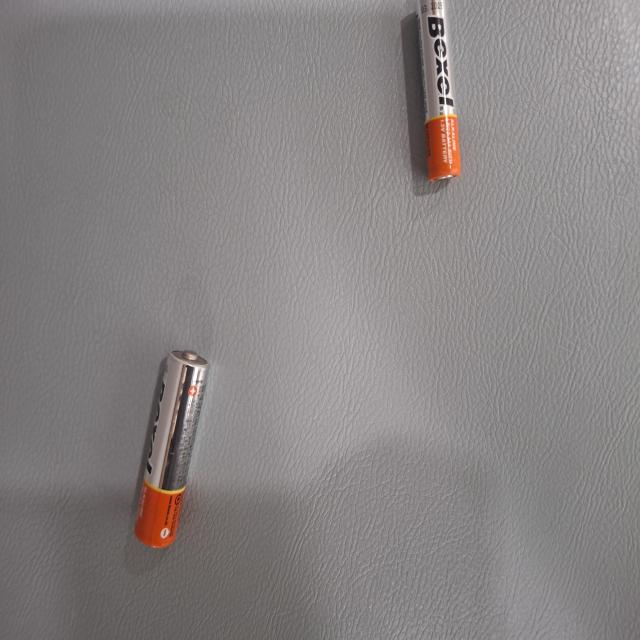AA: (260, 570, 408, 640)
AAA: (1, 238, 137, 301)
